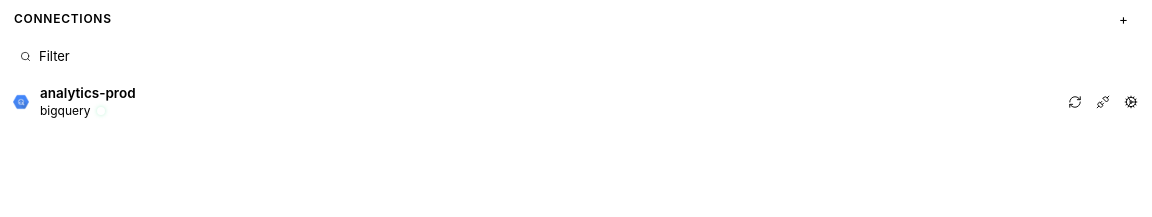
CombinedConnectionsTree › BigQuery prompts for a dataset and renders nothing until one is selected
Click the button with test id "expand-toggle-bq1" at point(88, 93), box [0, 78, 1151, 126]
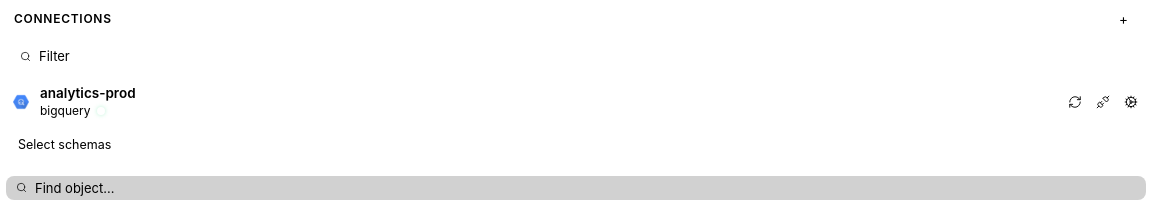
Expected: the button with test id "schema-select-bq1" reads "Select schemas", [10, 132, 1142, 160]
